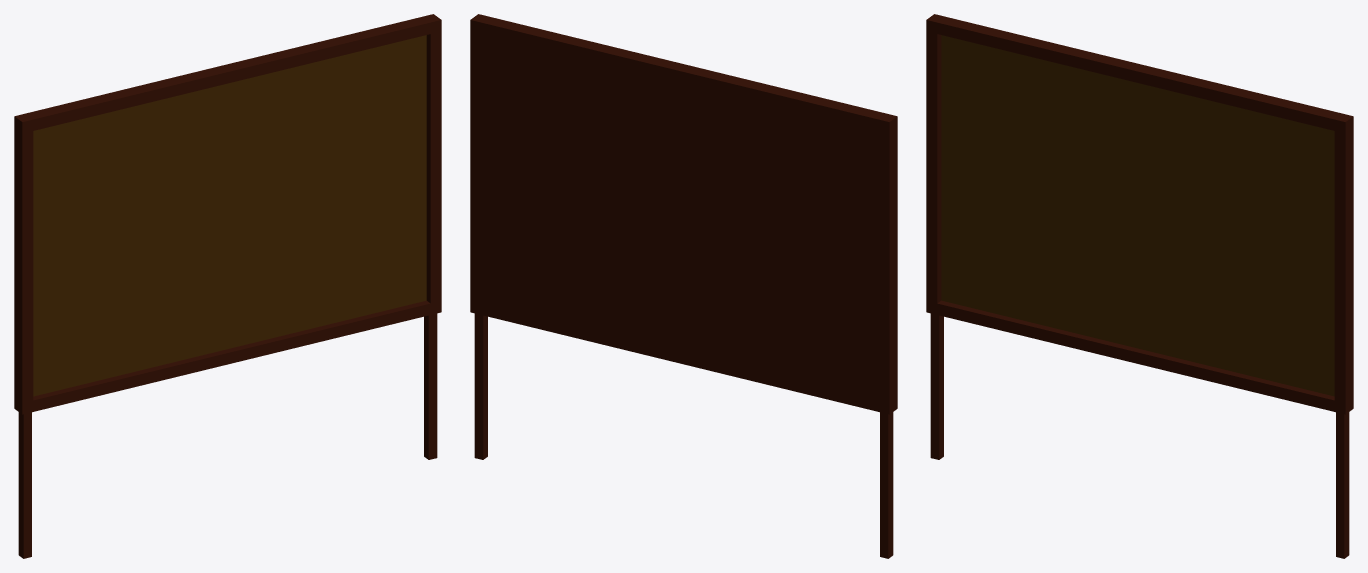
Rendered from pinbord.fbx.
The picture shows the model from 3 angles, left to right: view 1: azimuth 30°, elevation 25°; view 2: azimuth 150°, elevation 25°; view 3: azimuth 330°, elevation 25°; orthographic projection.
Parts seen in each view (by area): view 1: Cube; view 2: Cube; view 3: Cube.
Part boxes in pixels (x1,y1,x2,y2): Cube: (14, 14, 441, 558); Cube: (470, 14, 897, 558); Cube: (926, 14, 1353, 558).
Size of the model in its own units: 3 by 3 by 0.1.
